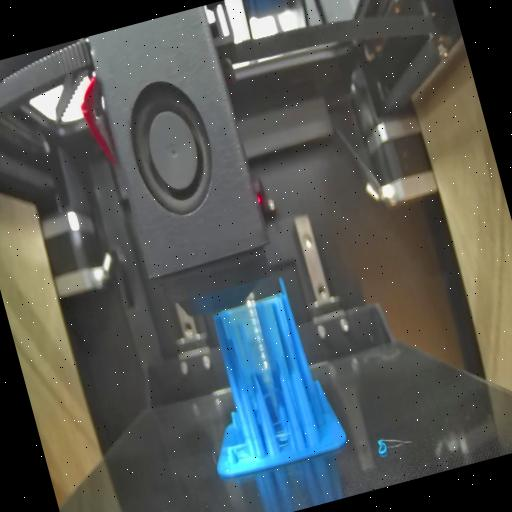stringing: (220, 300, 290, 378), (258, 372, 300, 458)
